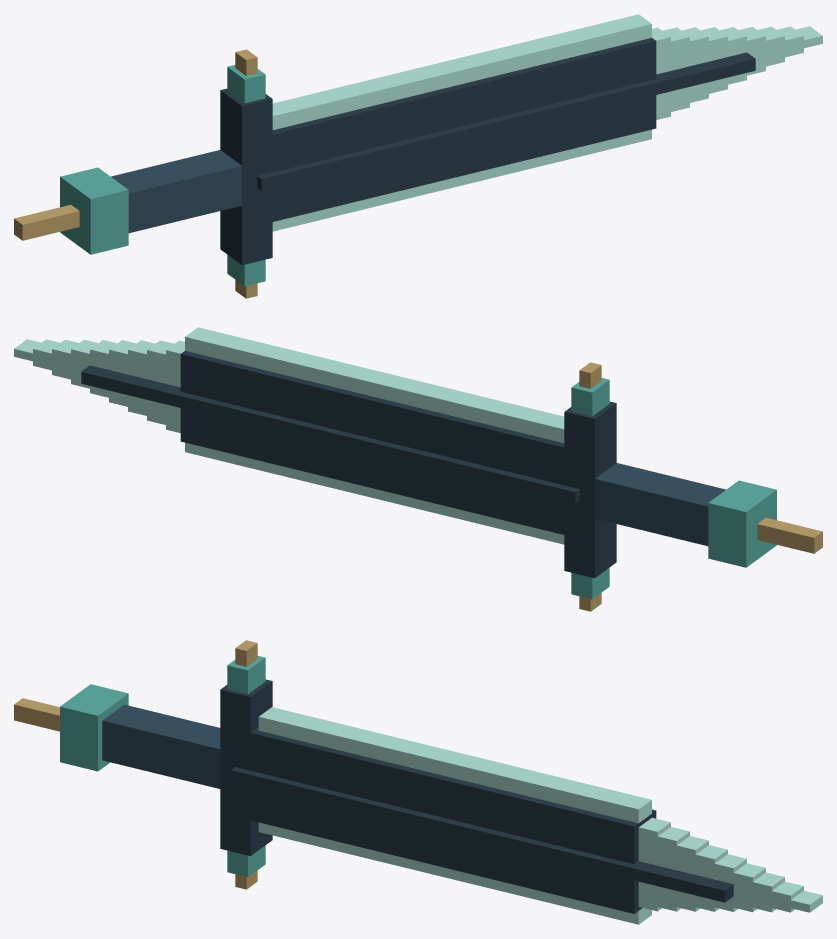
The model's file is bench_flying_sword_5.obj.
The picture shows the model from 3 angles, top to bottom: view 1: azimuth 30°, elevation 25°; view 2: azimuth 150°, elevation 25°; view 3: azimuth 330°, elevation 25°; orthographic projection.
Visible parts, largest first — view 1: geometry; view 2: geometry; view 3: geometry.
Boxes of the visible parts, x1,y1,x2,y2 form: geometry: (14,14,822,298); geometry: (14,327,822,611); geometry: (14,640,822,924).
Bounding box in the file's own units: 0.75 × 0.2143 × 0.05.
